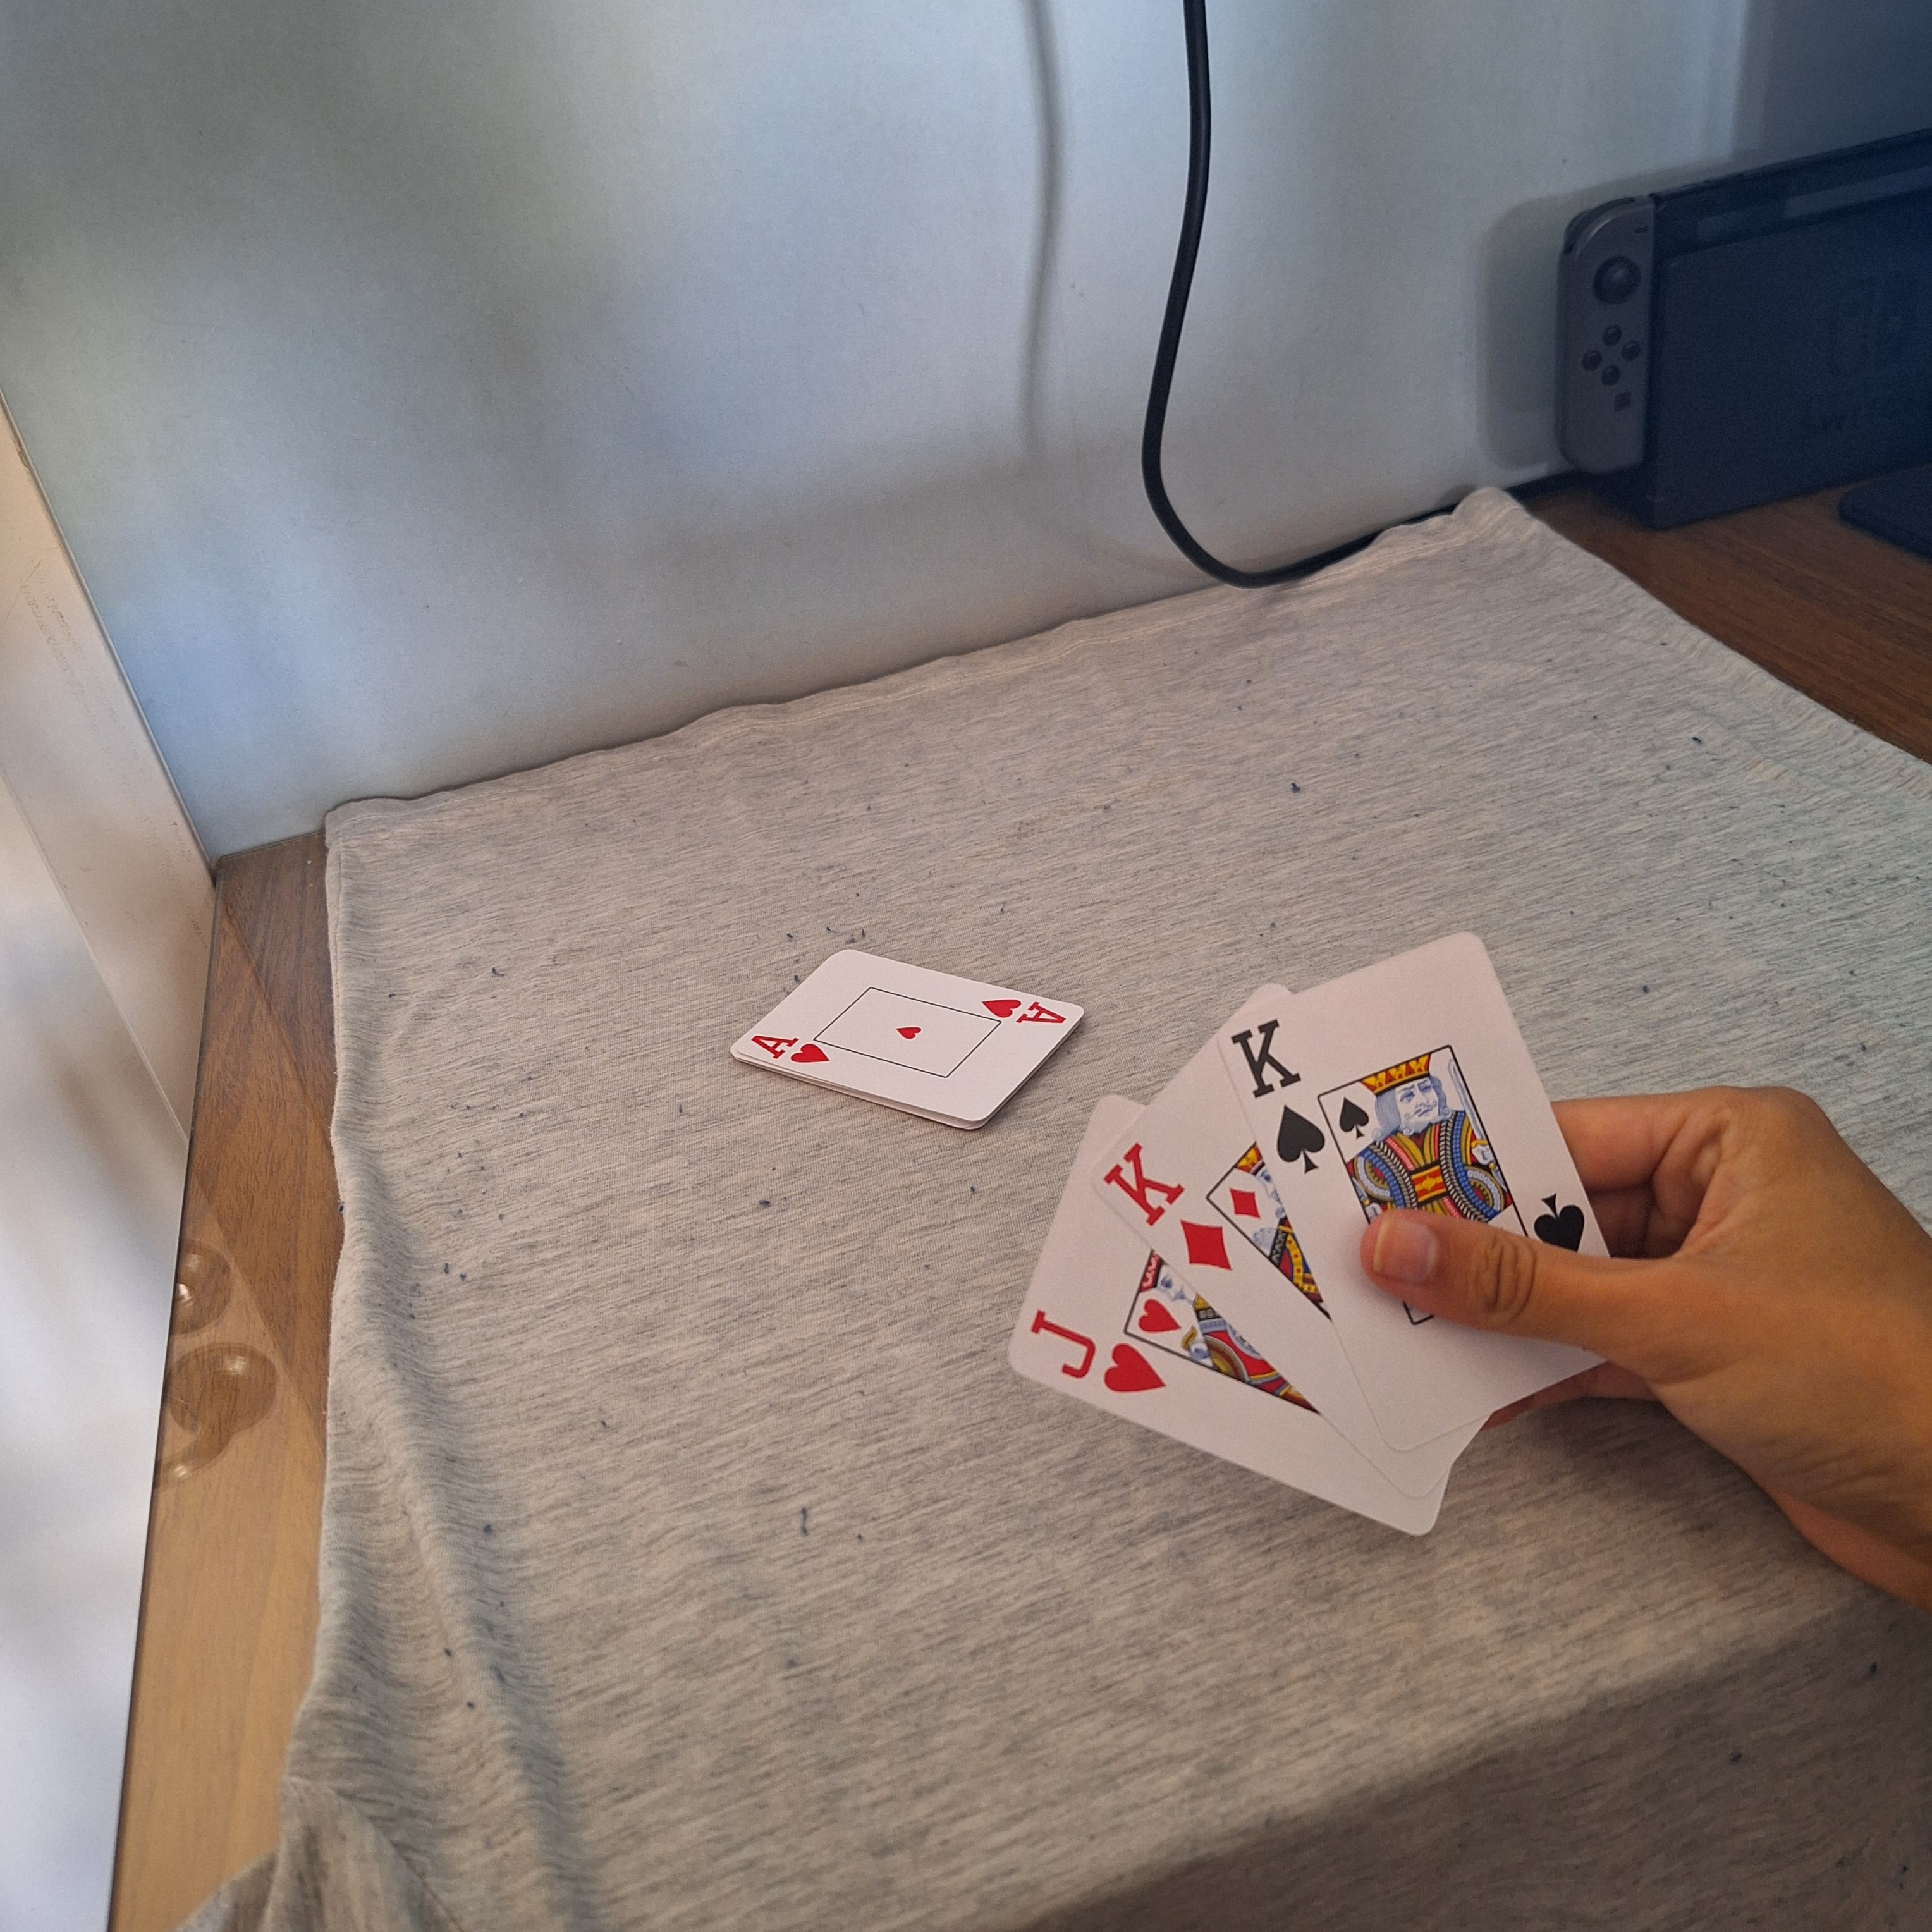AC: (973, 989, 1072, 1037), (747, 1030, 832, 1070)
JC: (1016, 1304, 1168, 1403)
KE: (1230, 1016, 1338, 1175)
KO: (1100, 1139, 1235, 1274)
